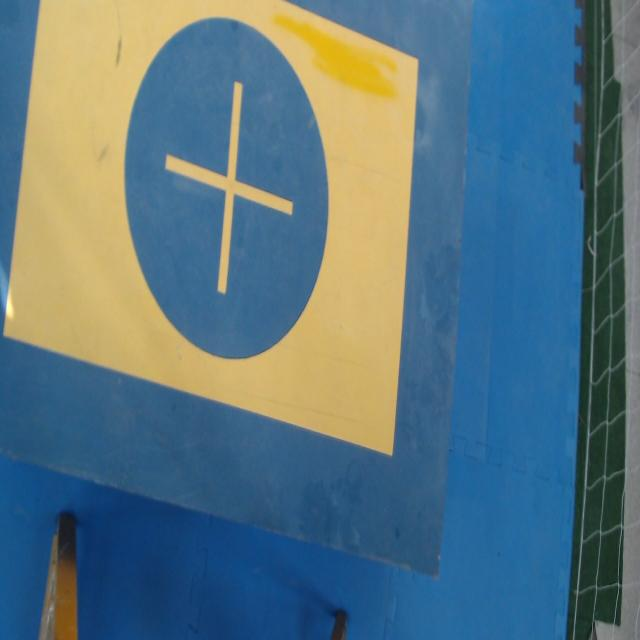base_inicio: (4, 0, 420, 454)
